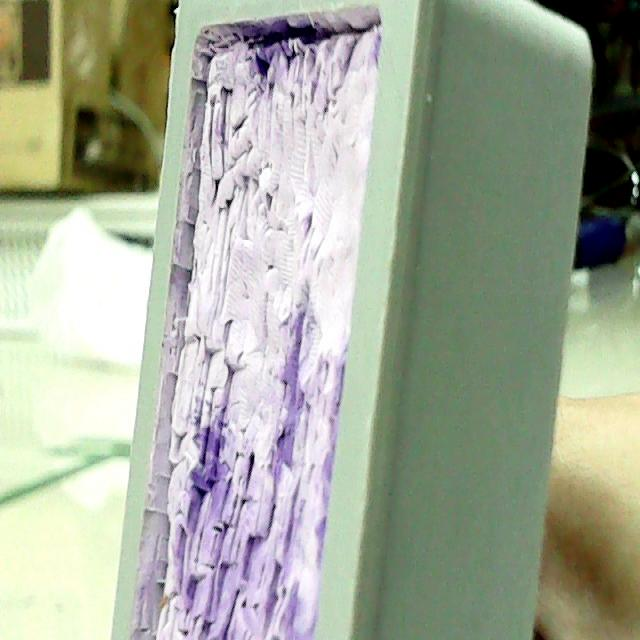block: (108, 3, 605, 640)
